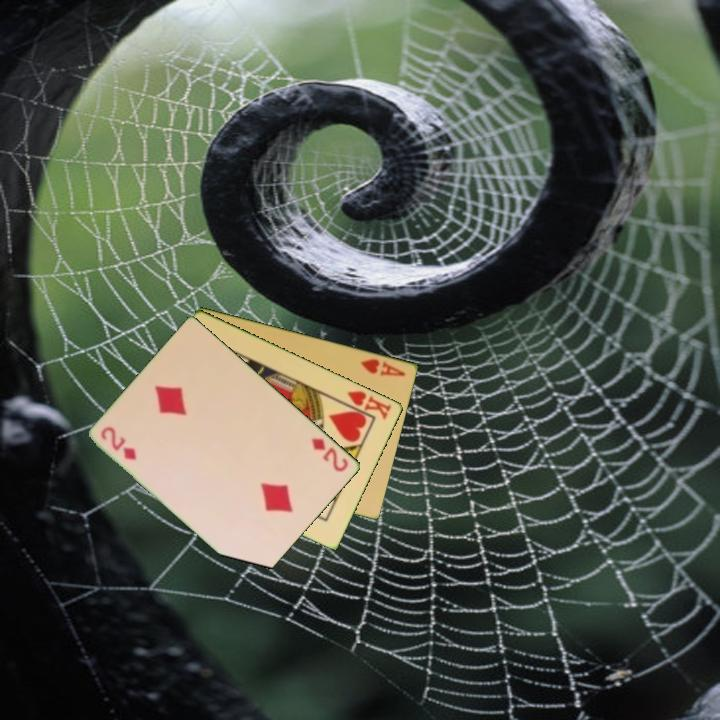2d: (309, 434, 352, 475), (97, 423, 140, 463)
Ah: (357, 355, 409, 379)
Kh: (338, 387, 395, 423)
